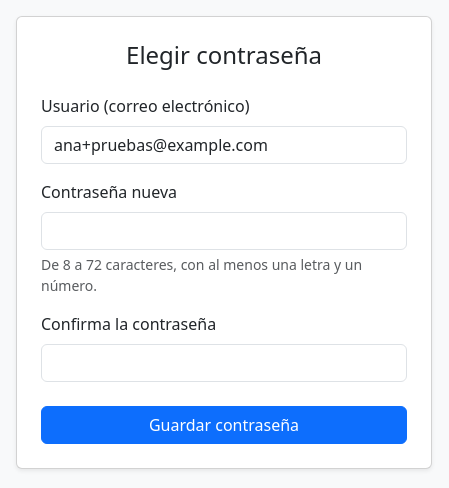
Test: ResetPasswordComponent › envía el token y el correo del enlace, y lleva a iniciar sesión
The image size is (449, 488).
Type "Puerto-2026" into the password field labelled "Contraseña nueva".
click(224, 231); type("Puerto-2026")  # box [41,212,407,250]
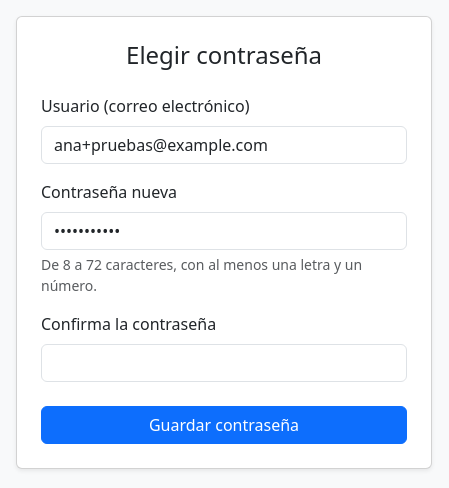
Type "Puerto-2026" into the password field labelled "Confirma la contraseña".
click(224, 363); type("Puerto-2026")  # box [41,344,407,382]
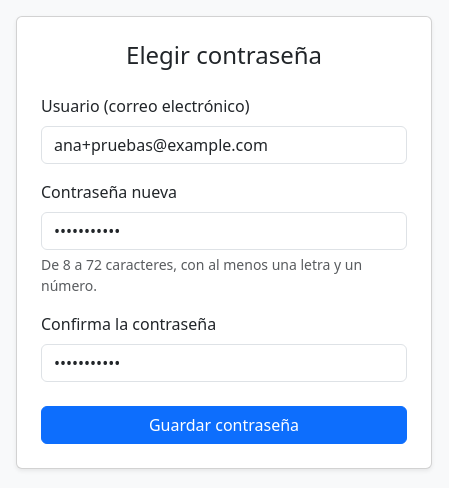
Submit the form, box [41,94,407,444]
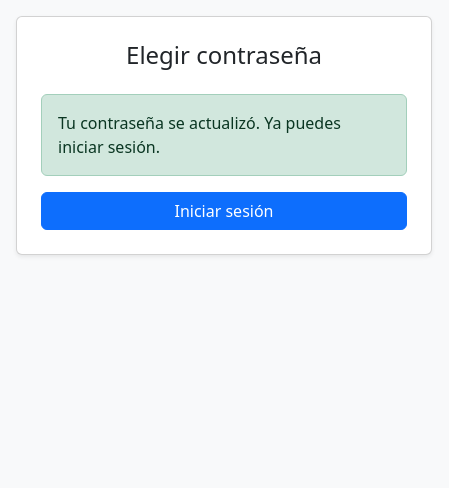
Expected: the message "Tu contraseña se actualizó. Ya puedes iniciar sesión." is shown, [41,94,407,176]
Expected: the link to "/login" is shown, [41,192,407,230]
Expected: the form is gone
